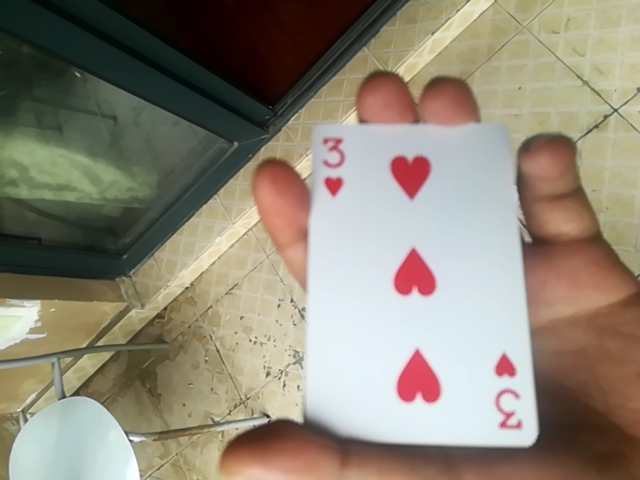hx 3: (301, 113, 541, 448)
